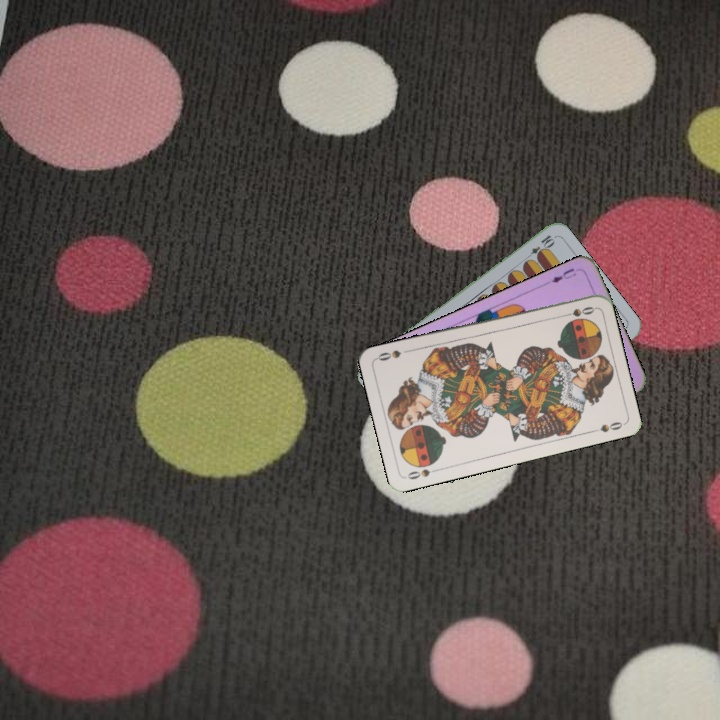E10: (521, 231, 557, 263)
EU: (547, 264, 579, 286)
SO: (557, 302, 597, 320), (403, 465, 442, 482)
